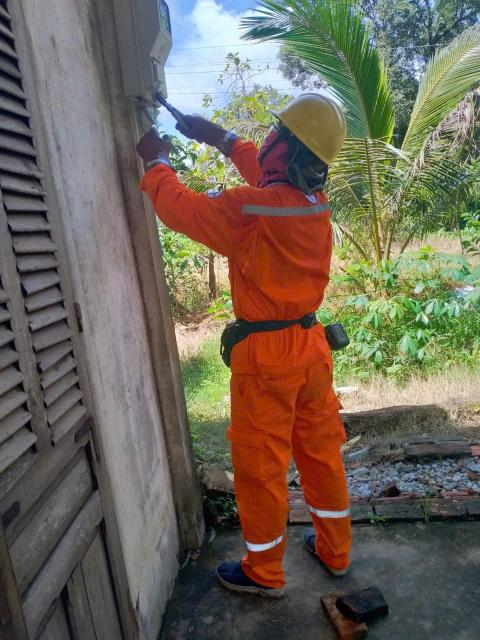gloves: (164, 104, 251, 151), (123, 127, 186, 174)
harness: (198, 296, 349, 354)
helmet: (262, 76, 361, 173)
shoes: (189, 529, 305, 602), (303, 514, 359, 580)
